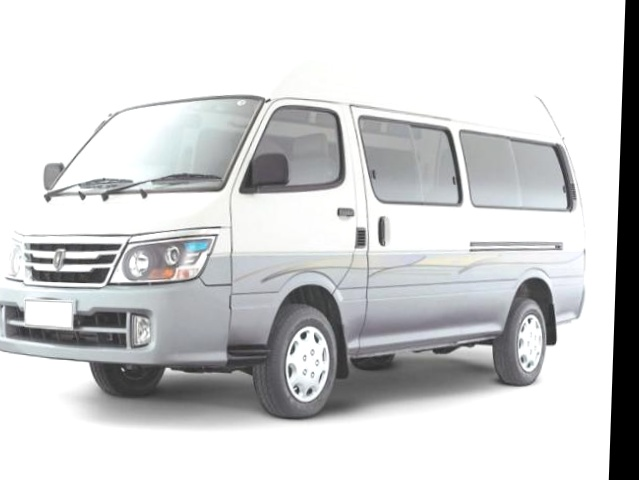van: (0, 36, 603, 425)
